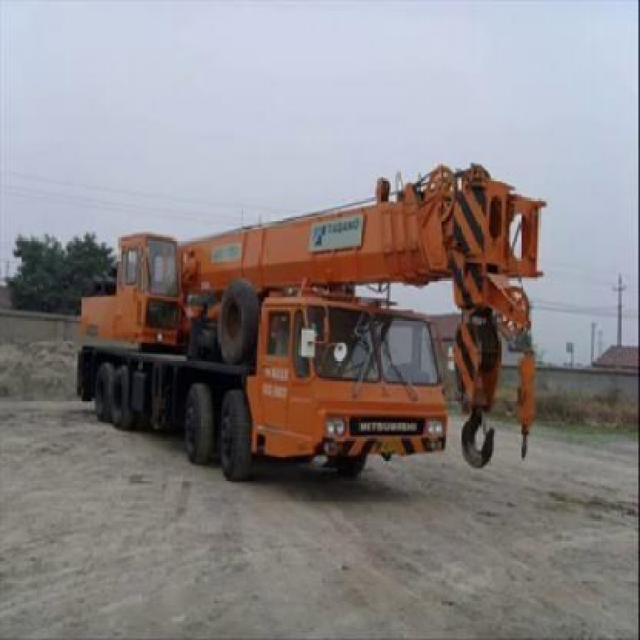Mobile Crane: (77, 162, 540, 482)
